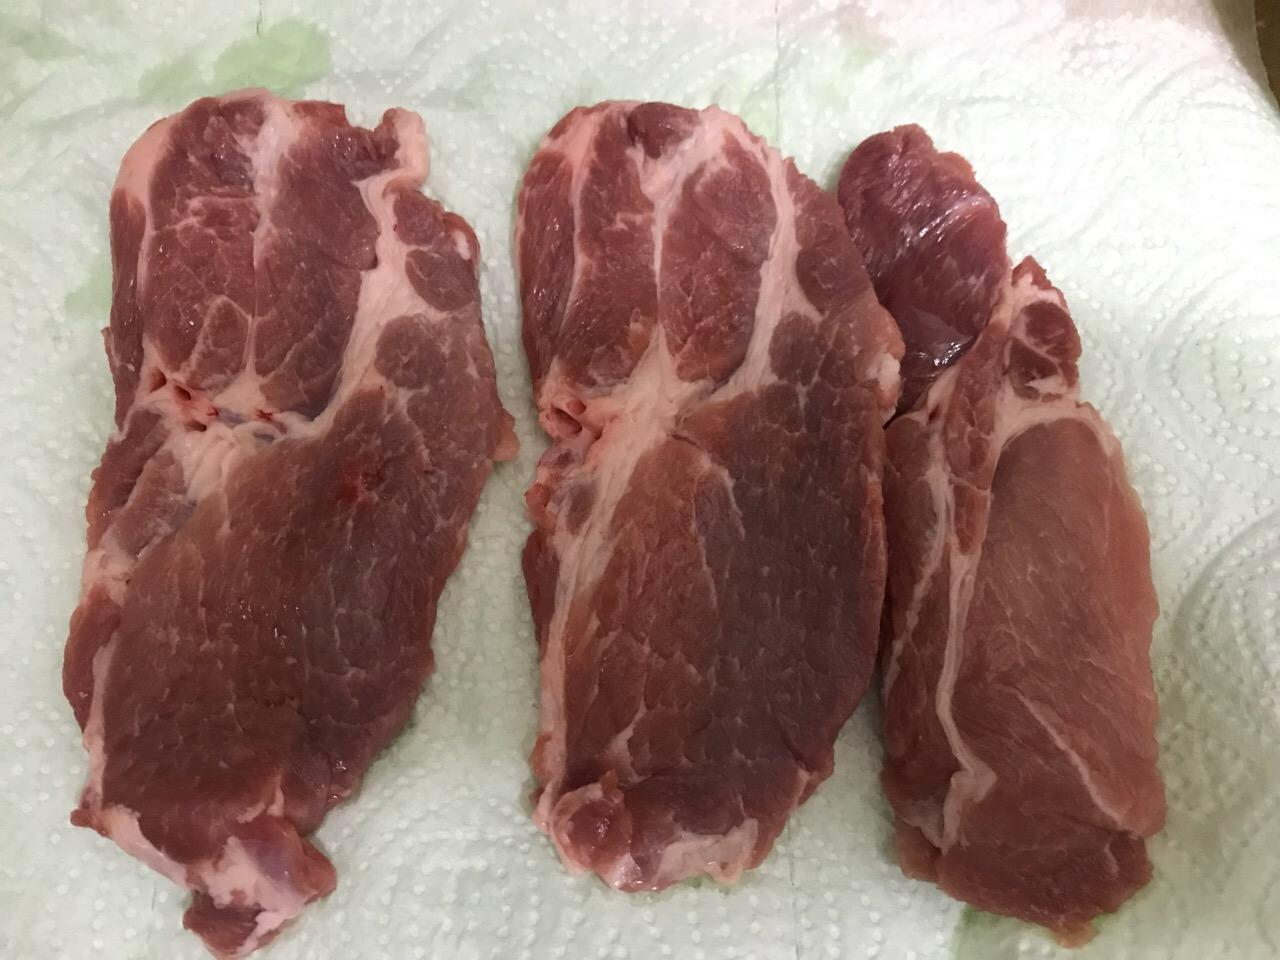beef: (290, 230, 790, 960), (1002, 230, 1280, 960), (1040, 319, 1280, 960)
